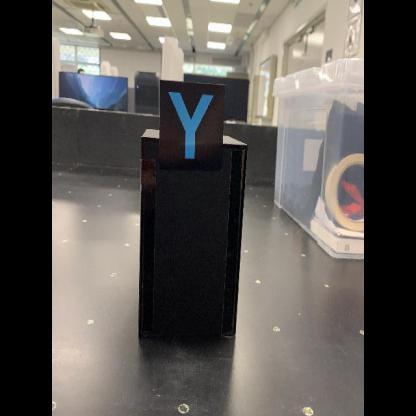y: (159, 78, 226, 174)
